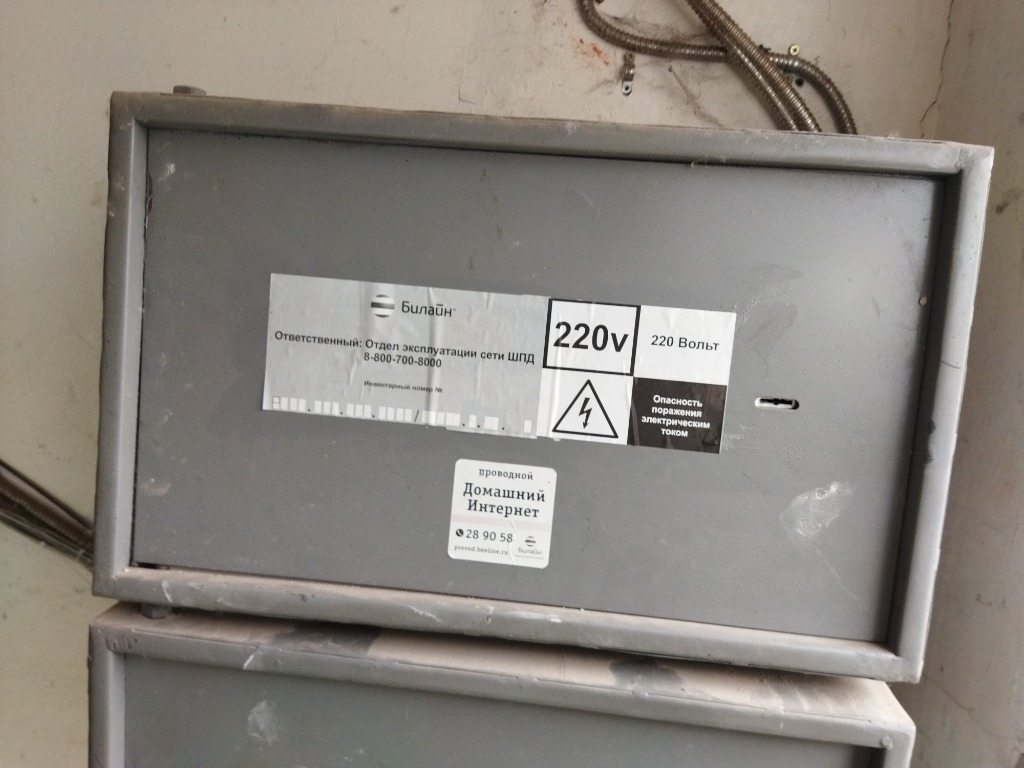e2-6u: (80, 86, 1003, 692)
